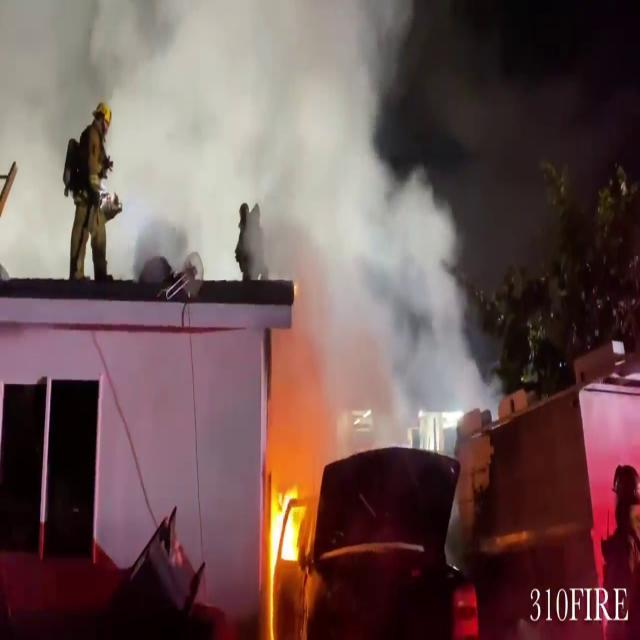Fire: (266, 470, 308, 580)
Smoke: (2, 0, 495, 429)
